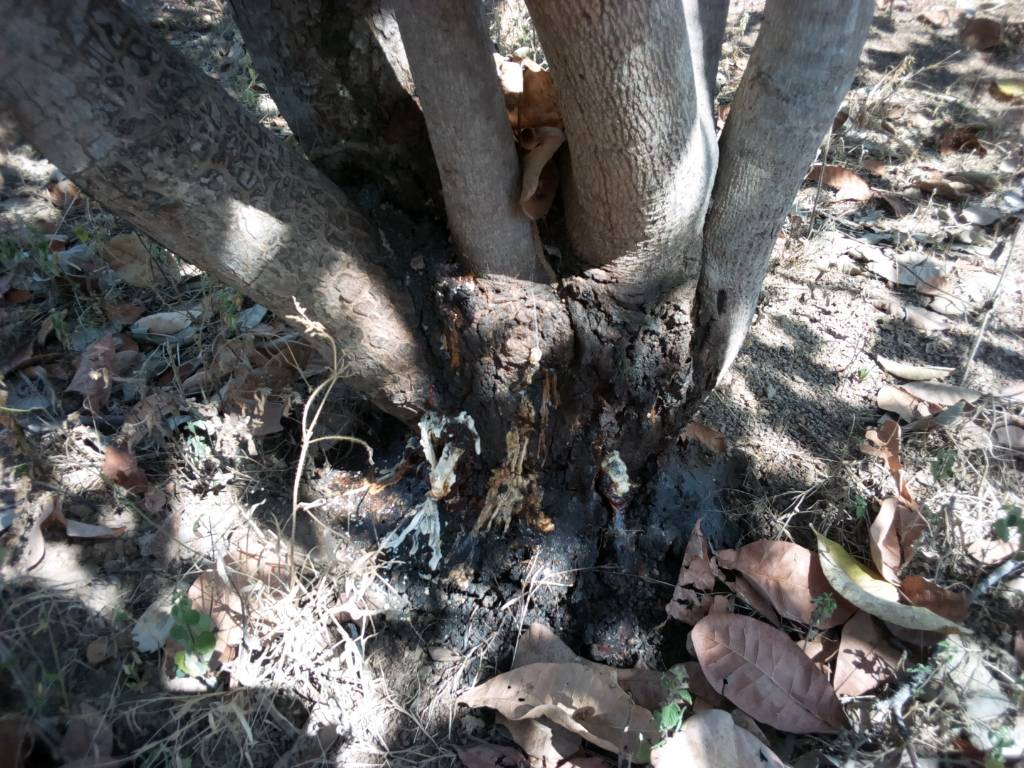Gommose: (409, 271, 730, 526)
